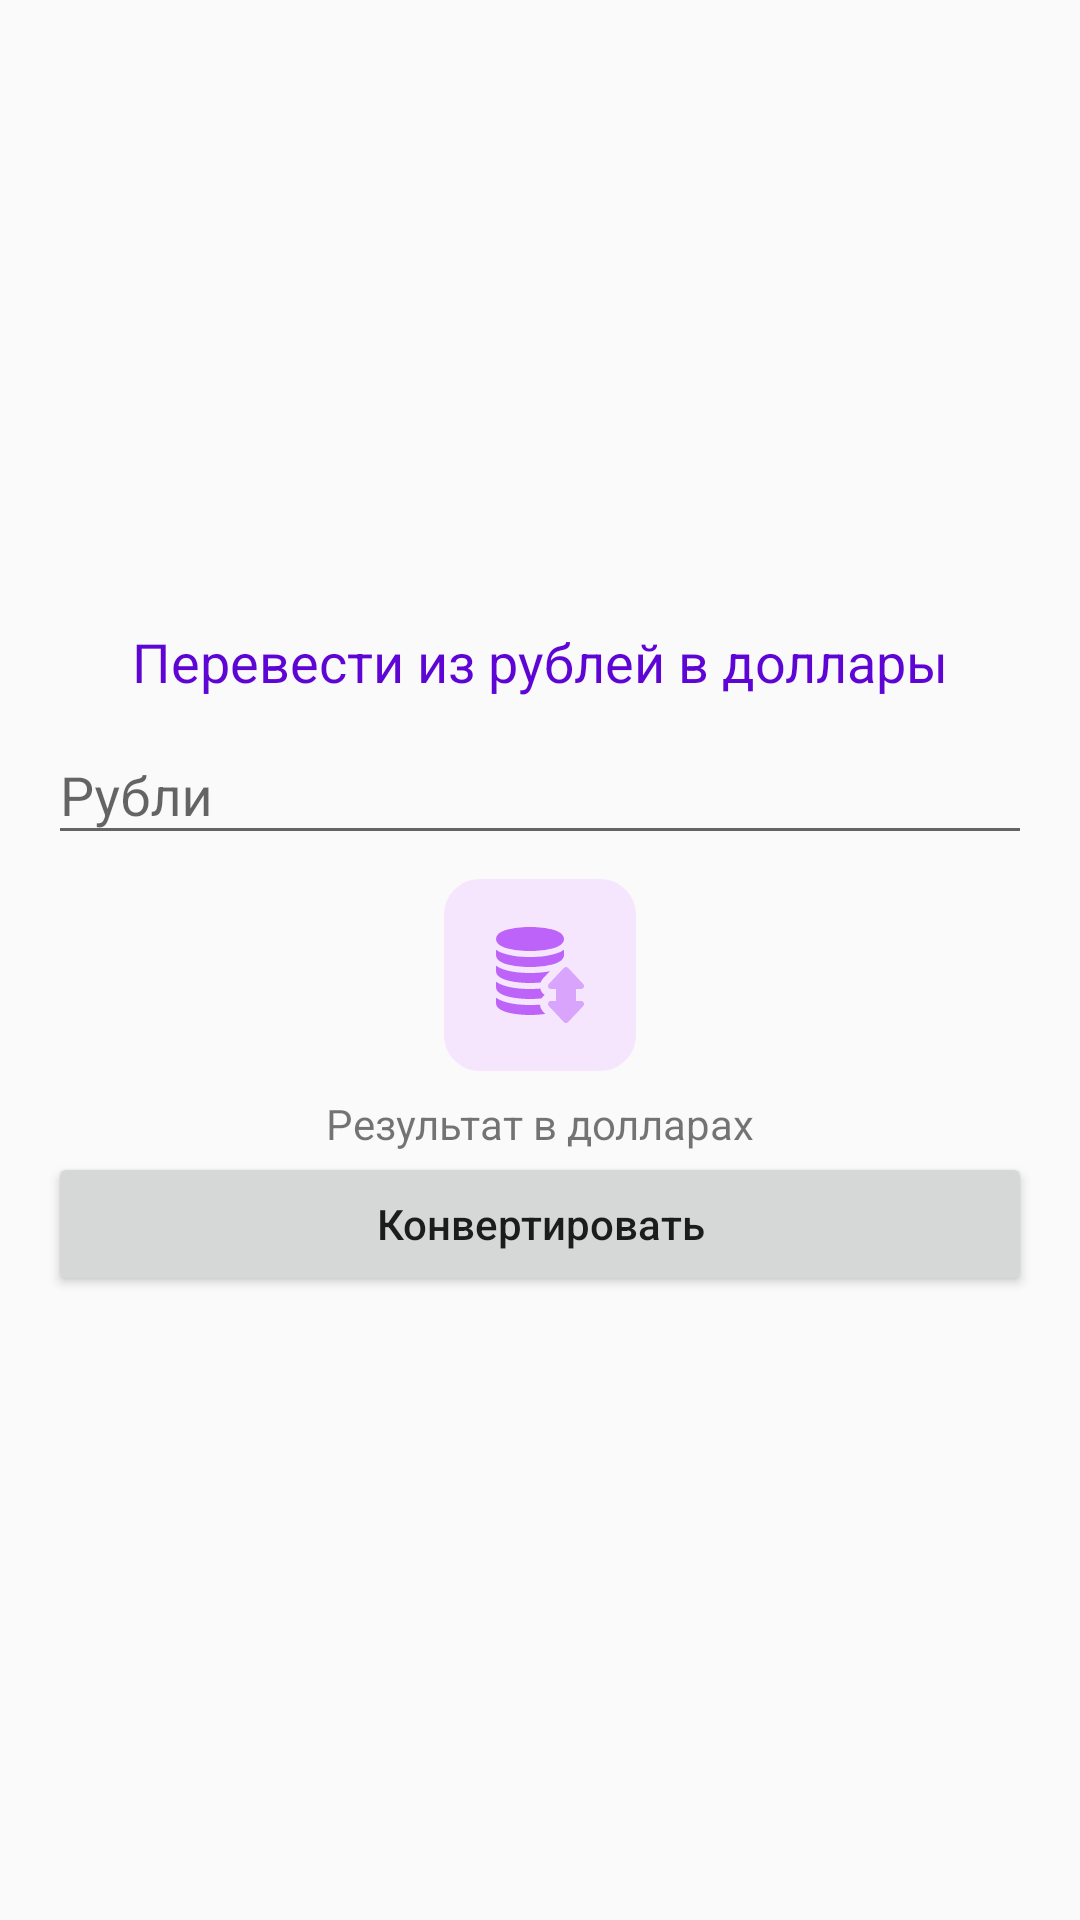

Icons on this 1080*1920 Android screen, each with its box as (x1, y1, x2, y2):
transfer: (496, 927, 584, 1023)
